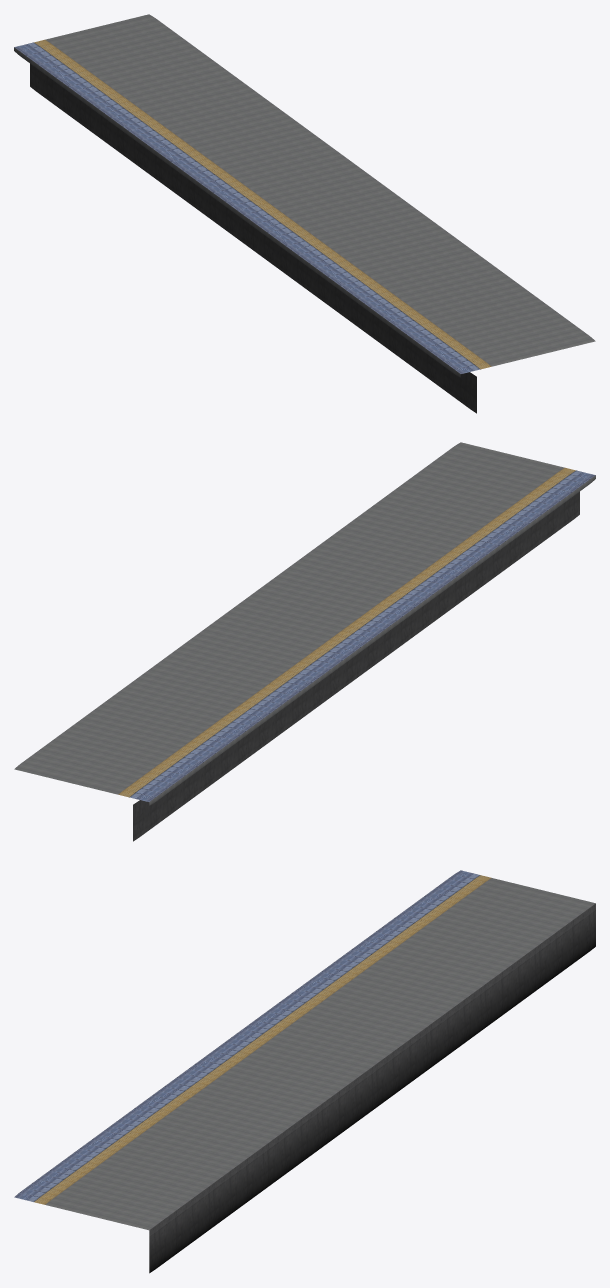
File: AMB_HOME2.glb
3 views of the same model, one above another, from view 1: azimuth 30°, elevation 25°; view 2: azimuth 150°, elevation 25°; view 3: azimuth 330°, elevation 25° (orthographic).
Parts seen in each view (by area): view 1: Mesh2; view 2: Mesh2; view 3: Mesh2.
Boxes of the visible parts, left/top/right/bottom form: Mesh2: left=14, top=14, right=595, bottom=413; Mesh2: left=14, top=442, right=595, bottom=841; Mesh2: left=14, top=870, right=595, bottom=1273.
Size of the model in its own units: 18.05 by 5.55 by 103.
Materials: 4 (4 with a texture image).
